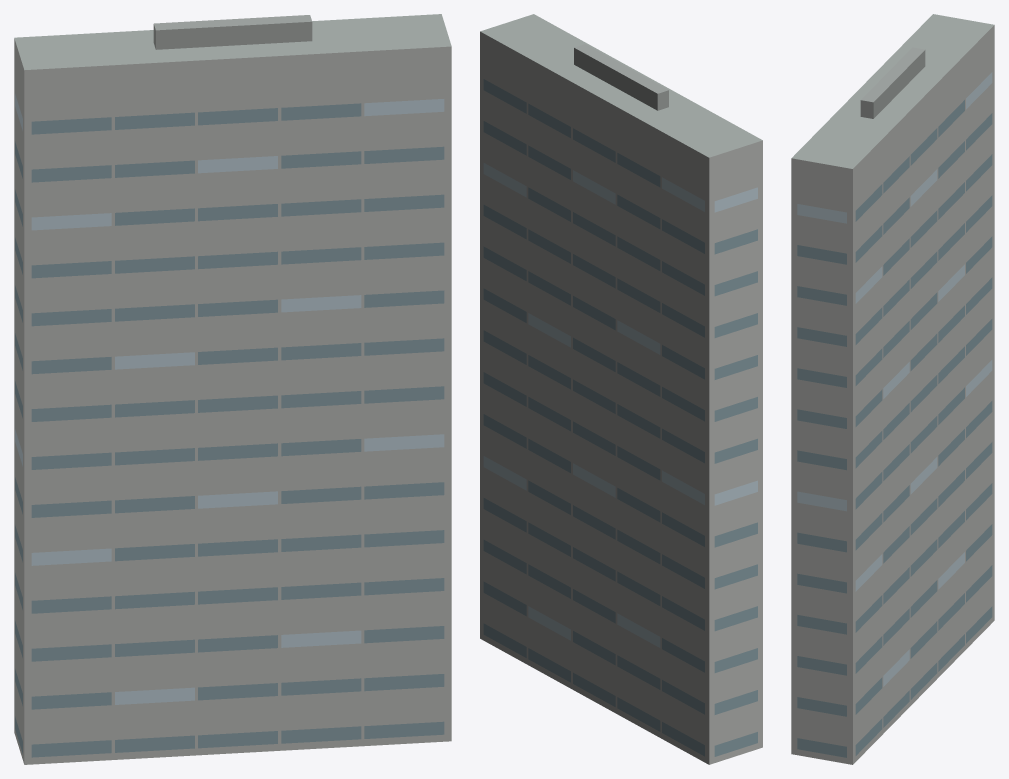
Rendered from fallback-jamsil-ricenz-251.glb.
3 renders of one model, left to right at view 1: azimuth 30°, elevation 25°; view 2: azimuth 150°, elevation 25°; view 3: azimuth 270°, elevation 25°, orthographic. The views are drawn at different scales.
Parts seen in each view (by area): view 1: fallback-jamsil-ricenz-251; view 2: fallback-jamsil-ricenz-251; view 3: fallback-jamsil-ricenz-251.
Part boxes in pixels (bbox=[...]): fallback-jamsil-ricenz-251: bbox=[14, 14, 451, 764]; fallback-jamsil-ricenz-251: bbox=[480, 14, 762, 764]; fallback-jamsil-ricenz-251: bbox=[791, 14, 994, 764].
Size of the model in its own units: 47.78 by 88 by 26.45.
